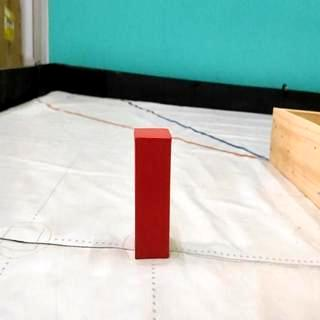redbox: (134, 127, 172, 260)
